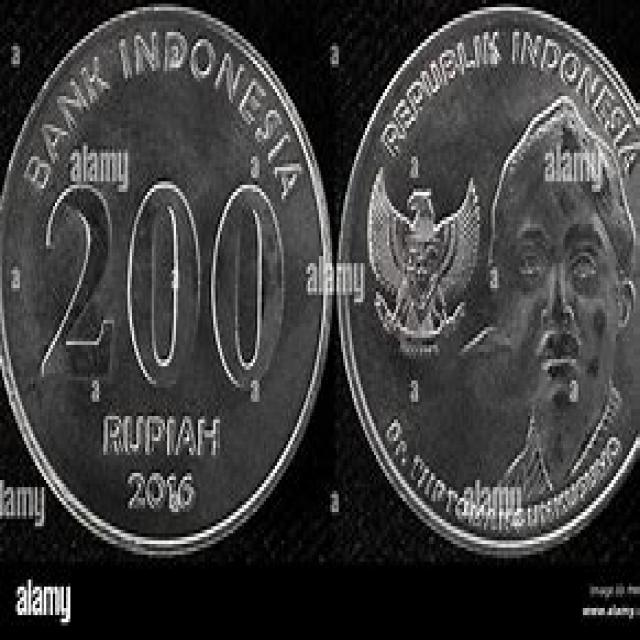1000-sawit: (0, 6, 333, 555)
